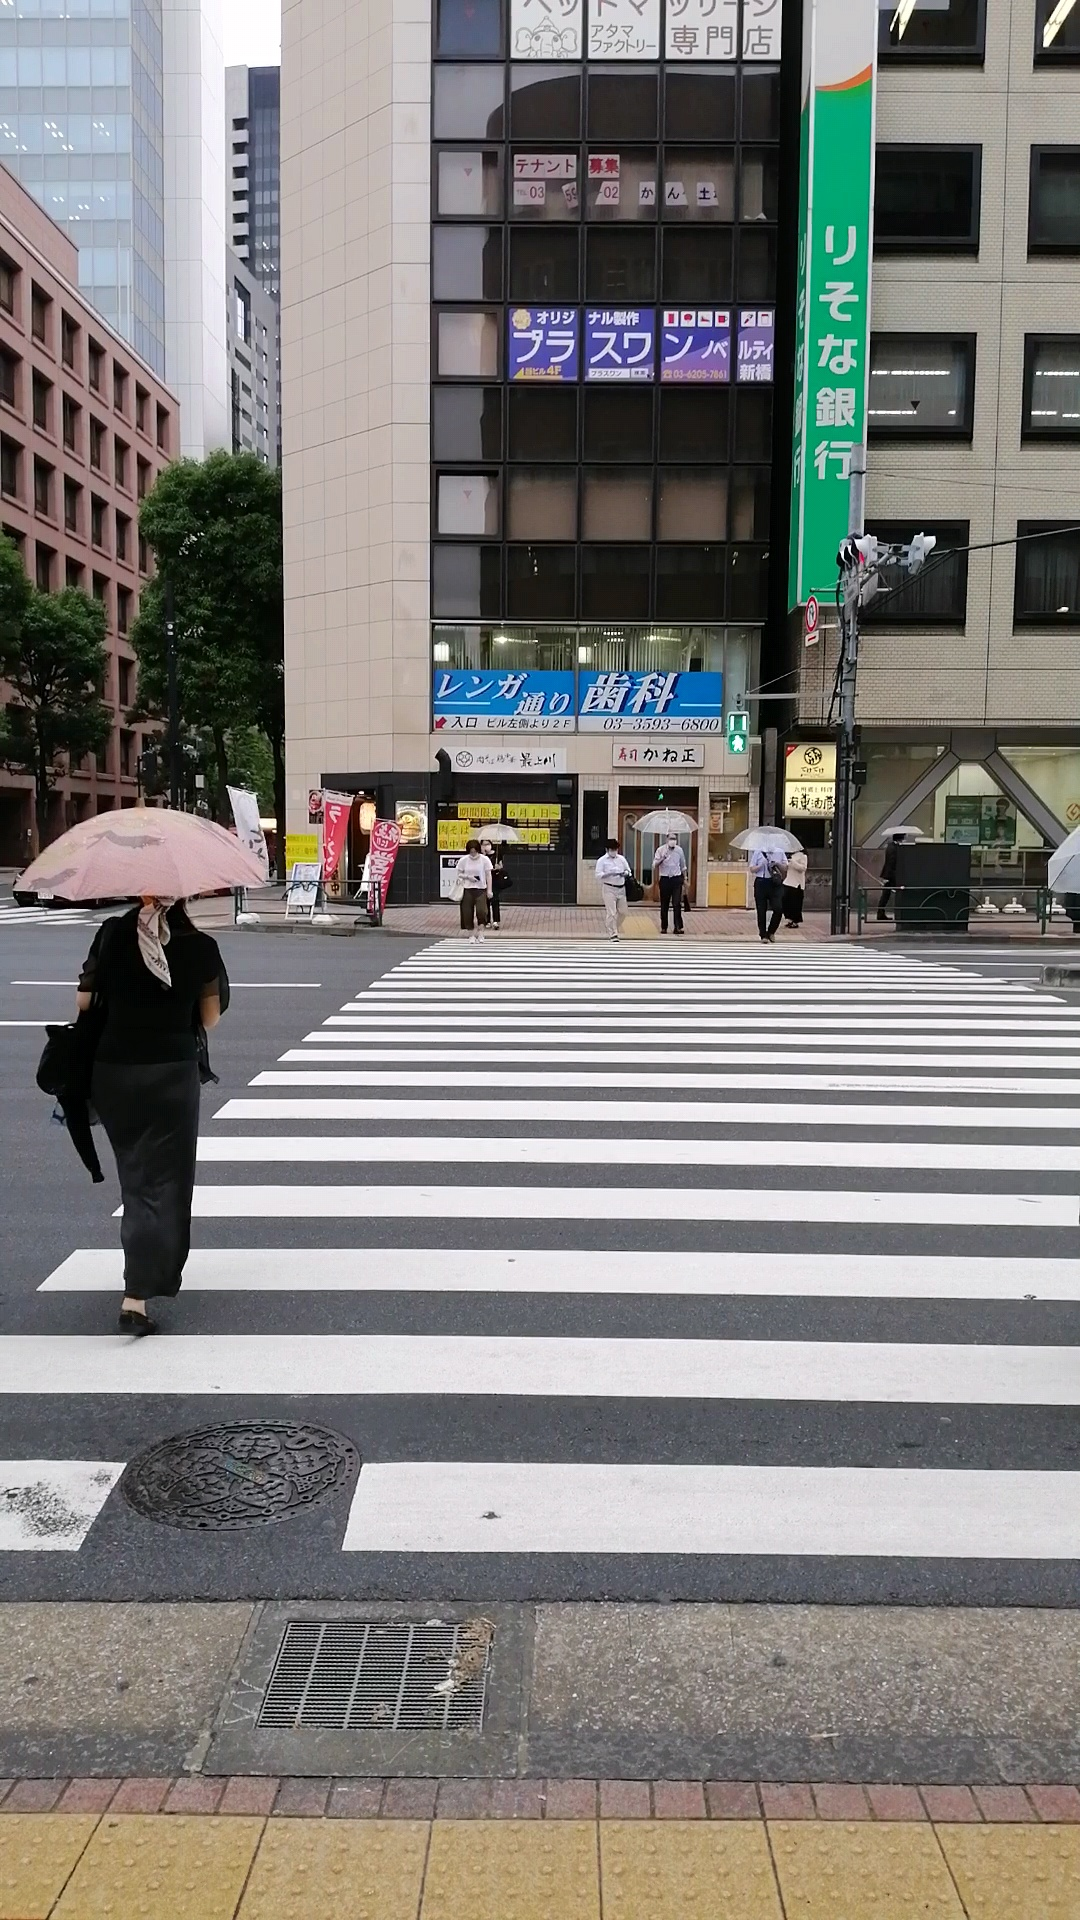green: (723, 707, 749, 756)
